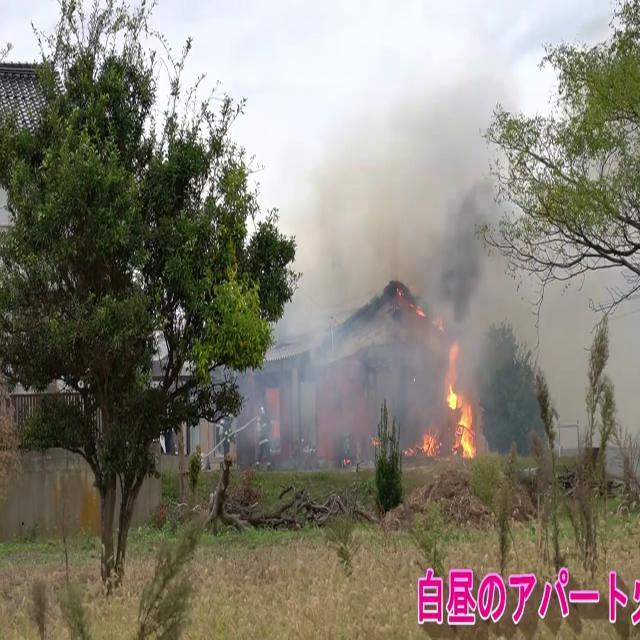Fire: (442, 341, 479, 462)
Smoke: (258, 31, 544, 452)
